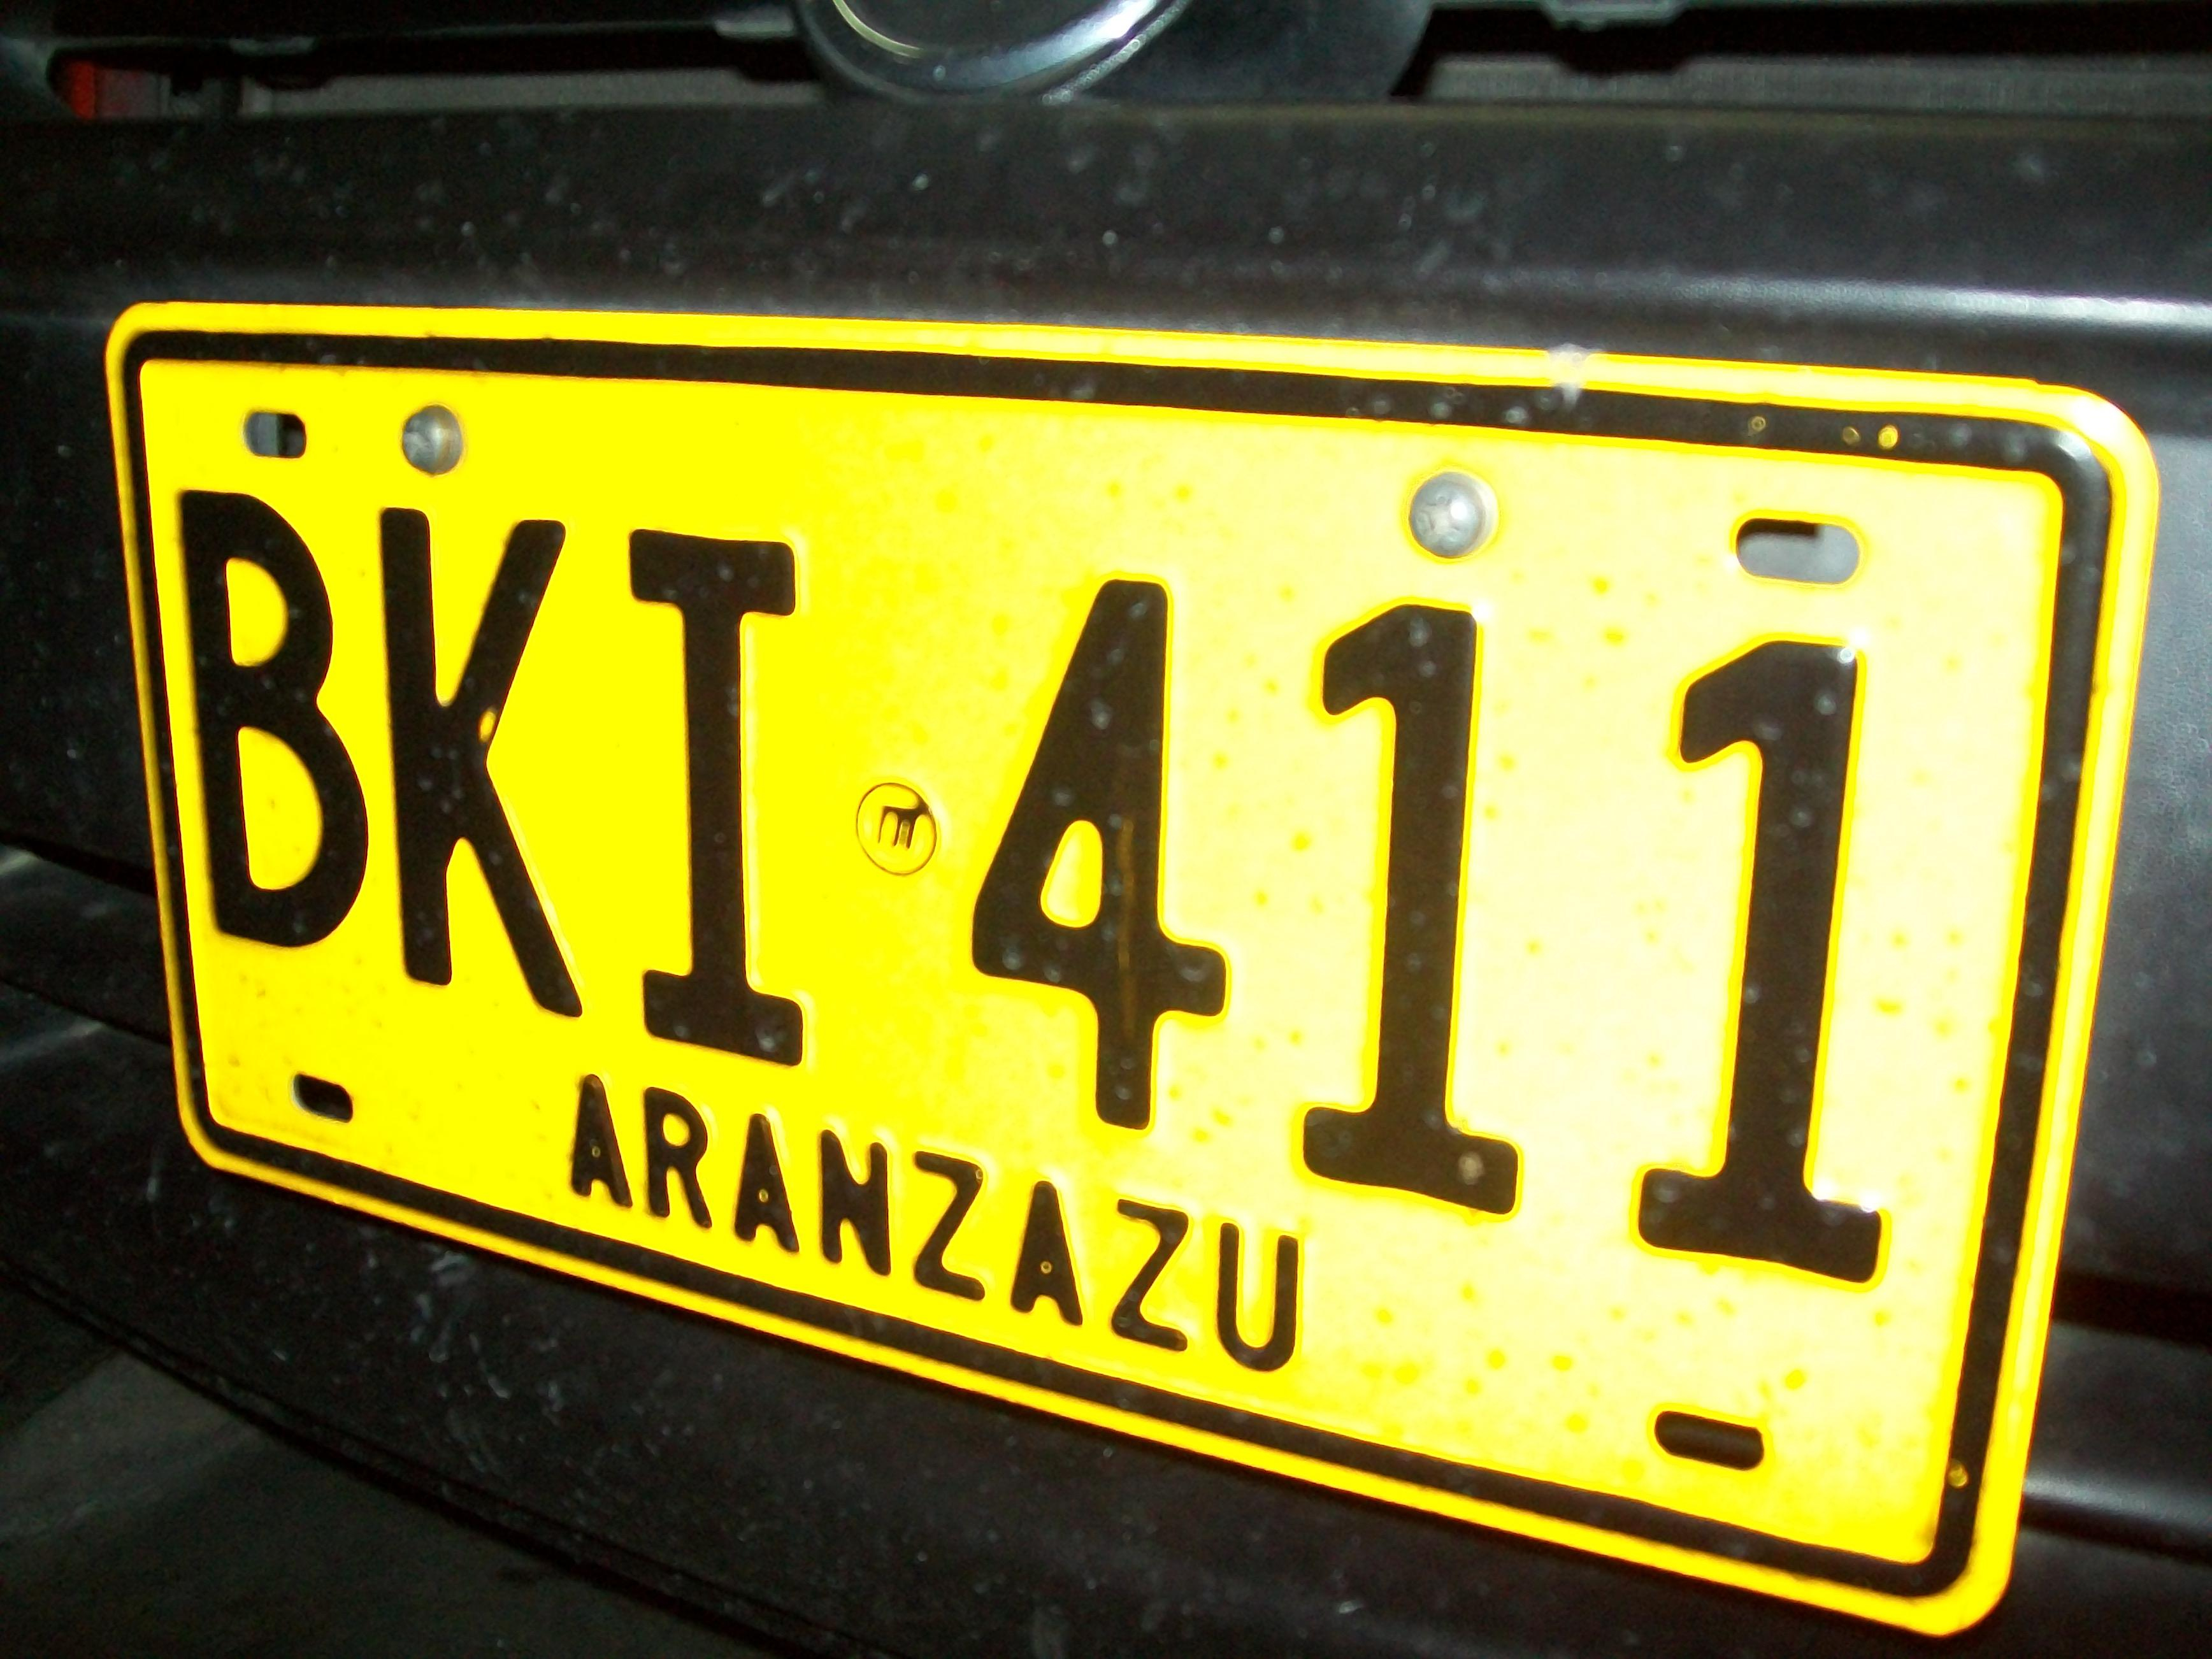placas: (96, 272, 2165, 1645)
